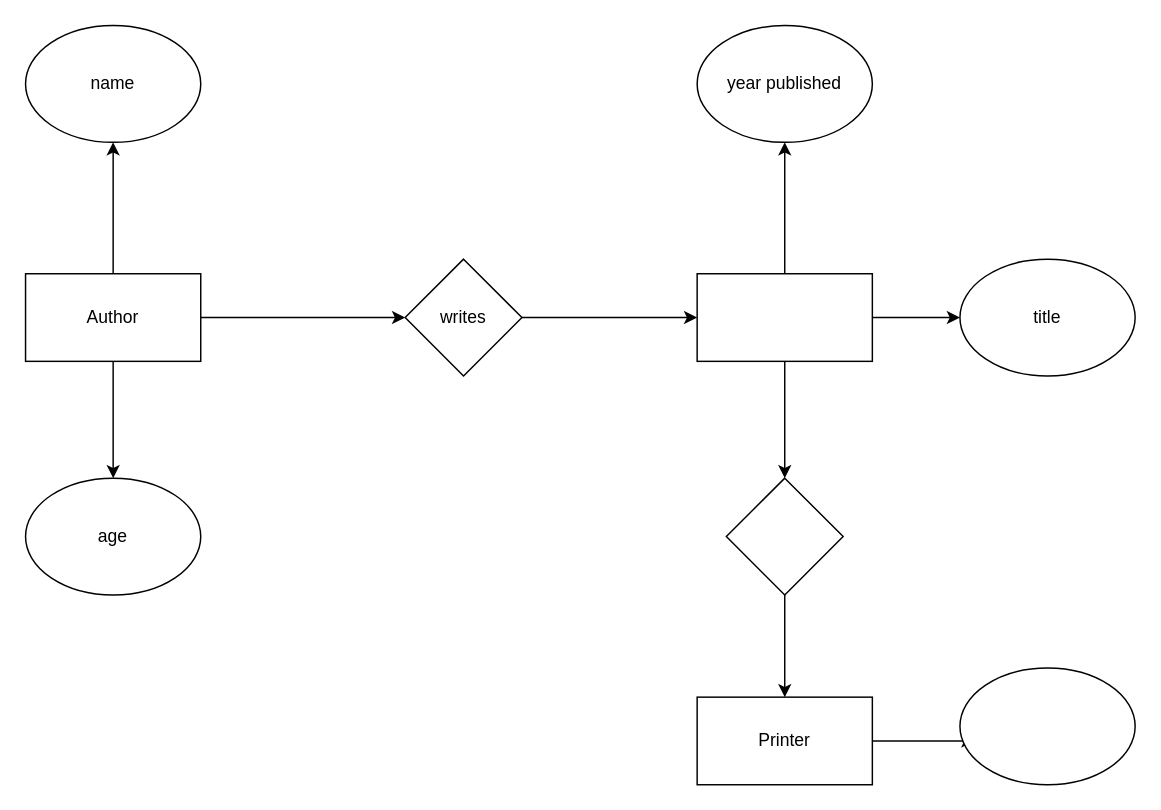
The diagram is 1161 pixels wide and 810 high, and some of its shapes have lost their labels. Here are the shapes that lost their labels. From the top down, the centre of each, then its label:
At (x=784, y=316): "Book".
At (x=784, y=536): "printed by".
At (x=1046, y=725): "brand".
